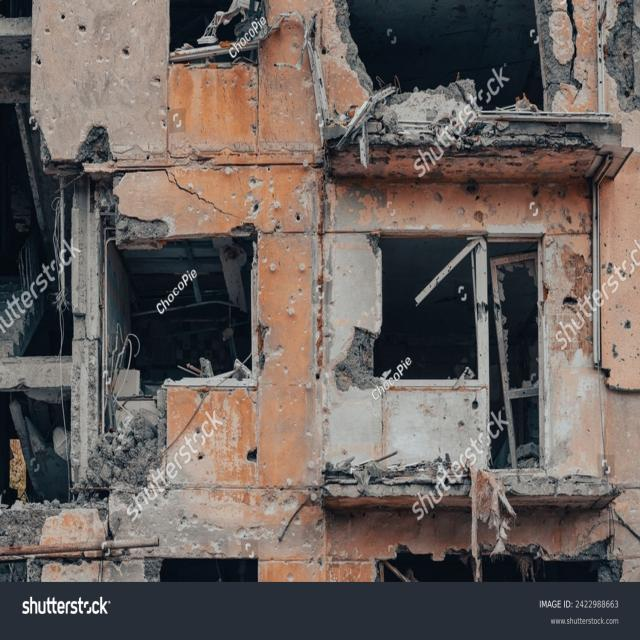Destroyed_building: (0, 0, 640, 583)
